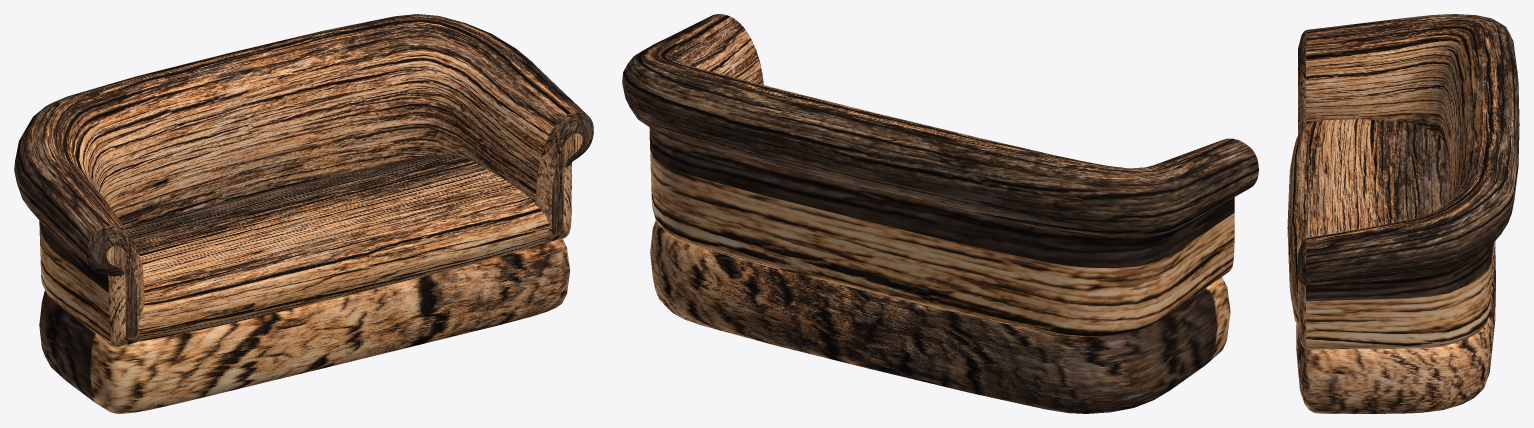
Rendered from sillon.obj.
3 views of the same model, side by side, from view 1: azimuth 30°, elevation 25°; view 2: azimuth 150°, elevation 25°; view 3: azimuth 270°, elevation 25° (orthographic). The views are drawn at different scales.
Parts seen in each view (by area): view 1: dsc:troseddejo; view 2: dsc:troseddejo; view 3: dsc:troseddejo.
Boxes of the visible parts, x1,y1,x2,y2 form: dsc:troseddejo: (14,14,593,413); dsc:troseddejo: (622,14,1258,413); dsc:troseddejo: (1287,14,1519,413).
Bounding box in the file's own units: 1.88 × 0.827 × 0.8127.
1 material, 1 textured.
